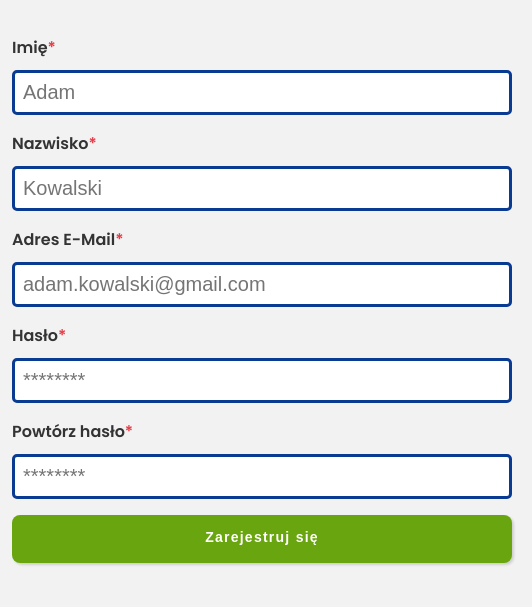
Scenario: Unit tests for Registration Form Component › should render error message when password is too short and confirm password does not match
Step 1. Type "John" into the field labelled "Imię" → (262, 92), box [12,70,512,115]
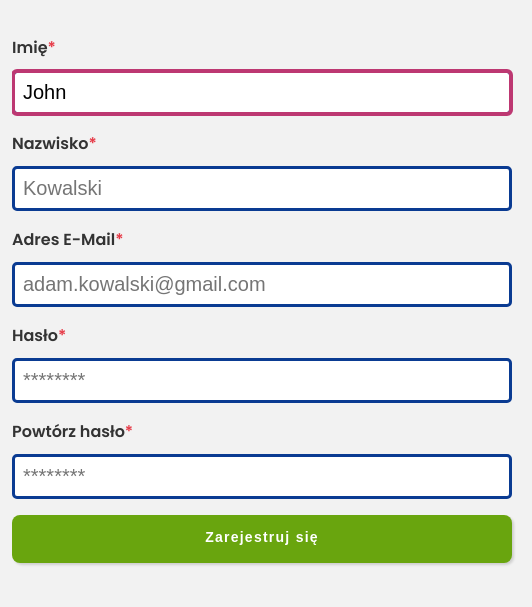
Step 2. Type "Doe" into the field labelled "Nazwisko" → (262, 188), box [12,166,512,211]
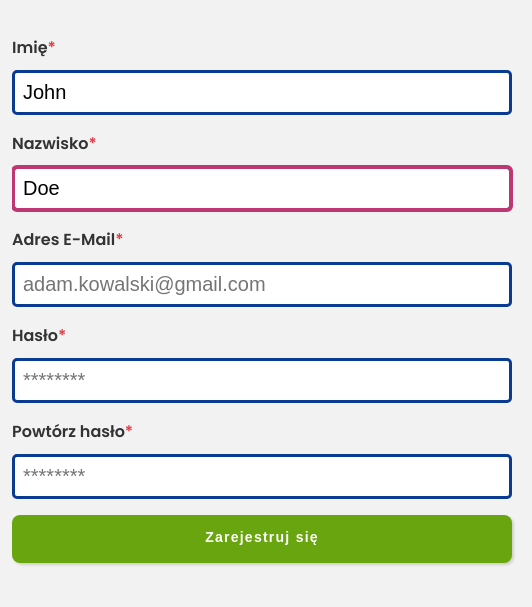
Step 3. Type "john.doe@gmail.com" into the field labelled "Adres E-Mail" → (262, 284), box [12,262,512,307]
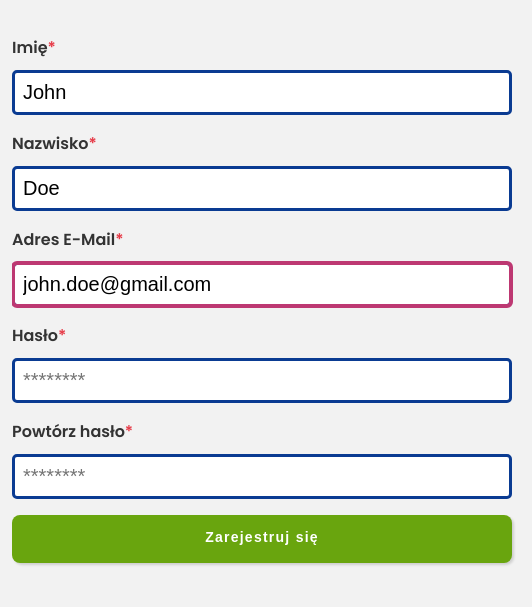
Step 4. Type "Short!" into the password field labelled "Hasło" → (262, 380), box [12,358,512,403]
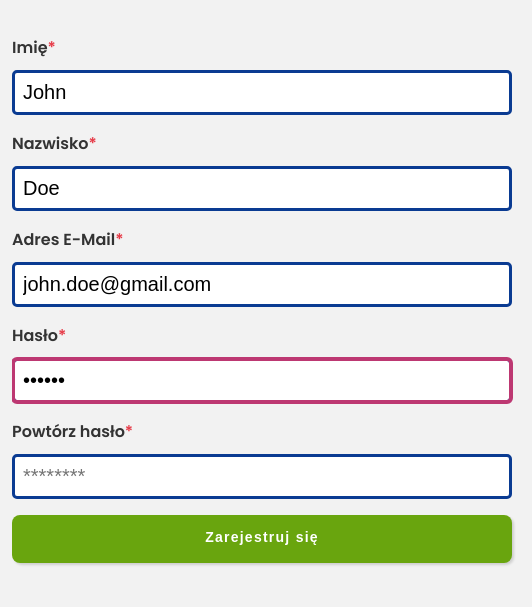
Step 5. Type "P@ssword1!" into the password field labelled "Powtórz hasło" → (262, 476), box [12,454,512,499]
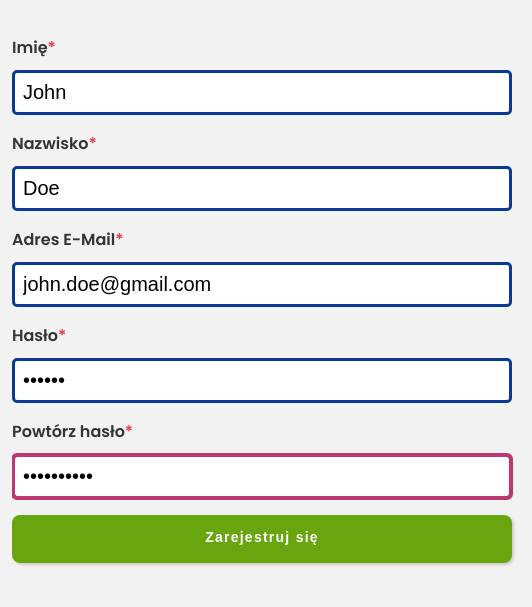
Step 6. Click the button → click(262, 539), box [12,515,512,563]
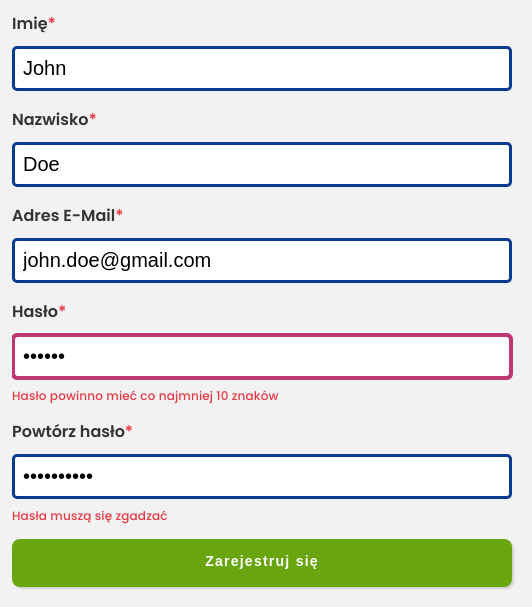
Result: the heading "Hasło powinno mieć co najmniej 10 znaków" is shown at [12,389,278,403]
Result: the heading "Hasła muszą się zgadzać" is shown at [12,509,168,523]
